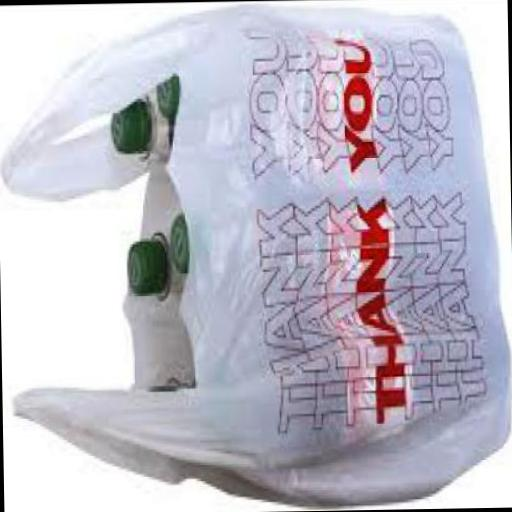plastic: (0, 3, 511, 512), (125, 243, 160, 300), (110, 101, 142, 156), (164, 218, 192, 275), (150, 75, 178, 120)
